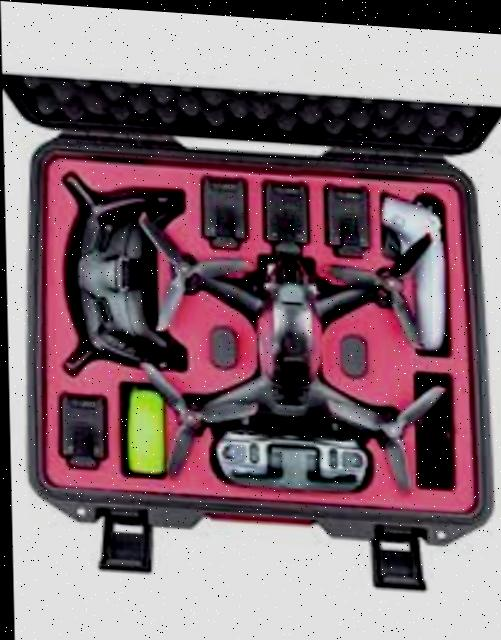drone: (130, 196, 436, 489)
